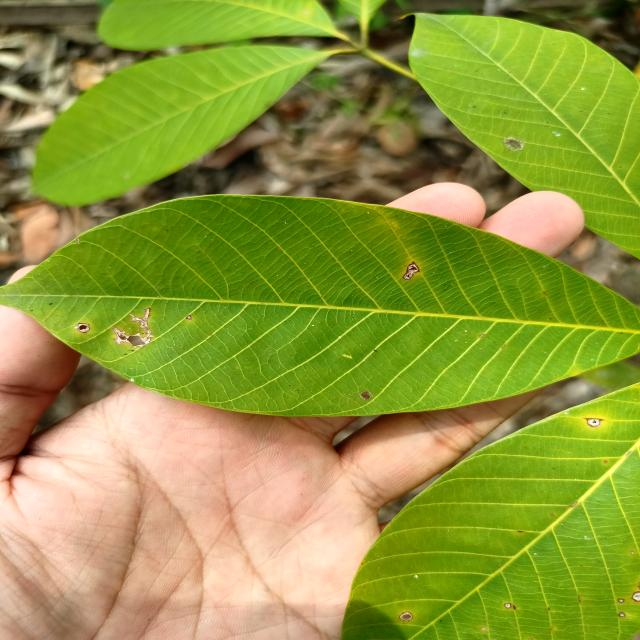Colletotrichum: (399, 611, 413, 621), (586, 418, 600, 427), (78, 322, 90, 332), (630, 591, 640, 602), (504, 602, 512, 608), (618, 612, 626, 617), (617, 598, 624, 603), (186, 316, 192, 320)
